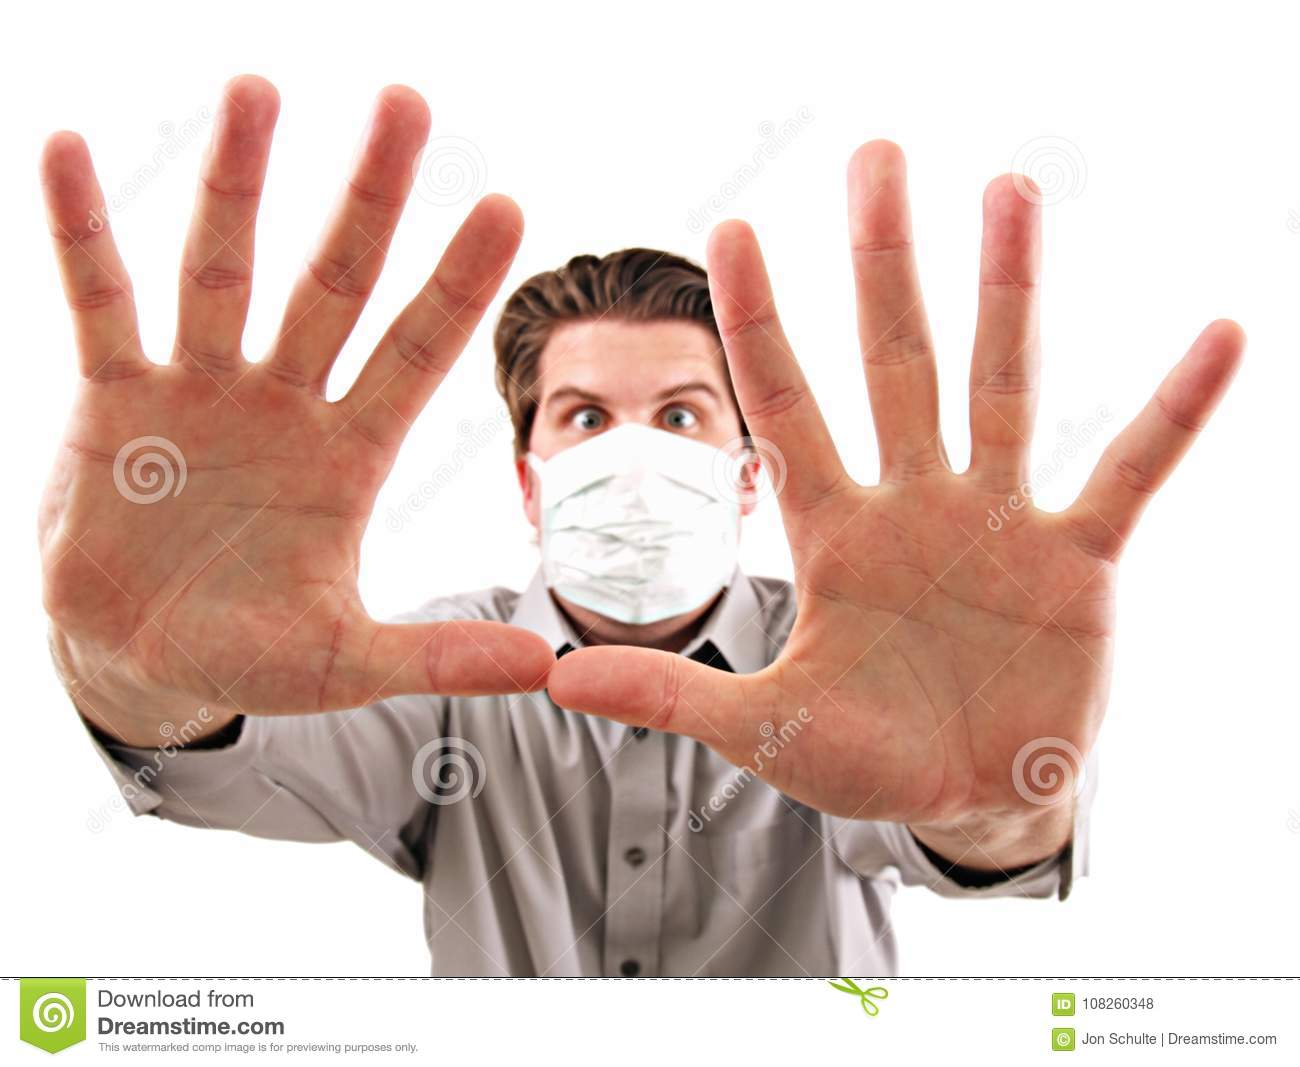mask: (538, 426, 737, 629)
